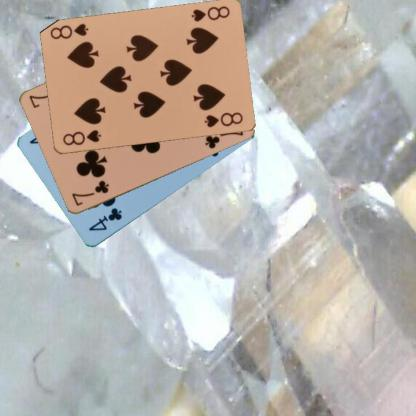4c: (86, 205, 123, 233)
7c: (69, 178, 110, 208)
8s: (60, 127, 102, 147), (188, 4, 231, 23)
